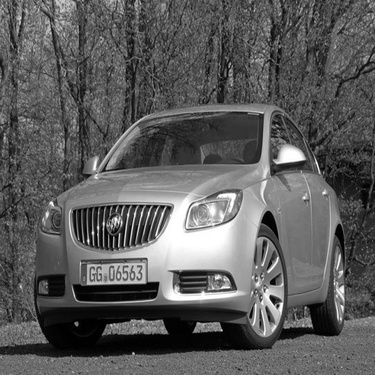car: (25, 93, 355, 360)
